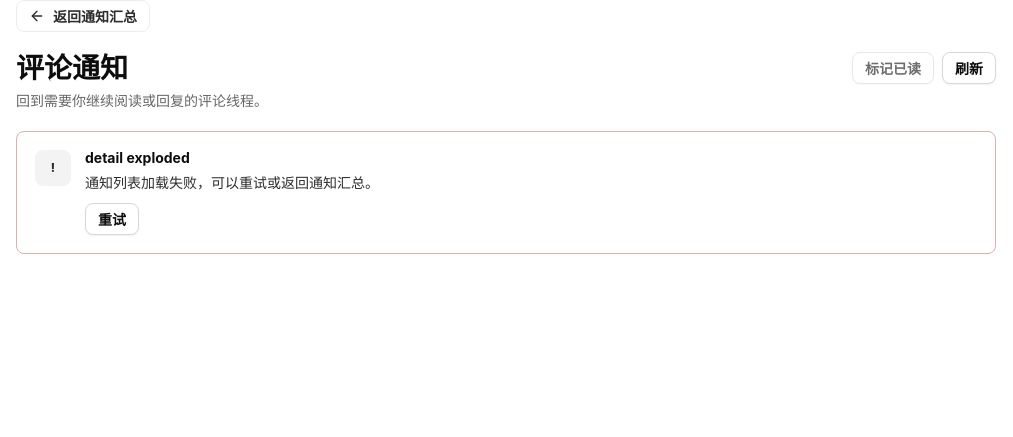
Test: NoticeDetailView › shows an error state with retry and recovers after the retry succeeds
Click the button "重试" at (112, 219), box x1=85 y1=203 x2=139 y2=235
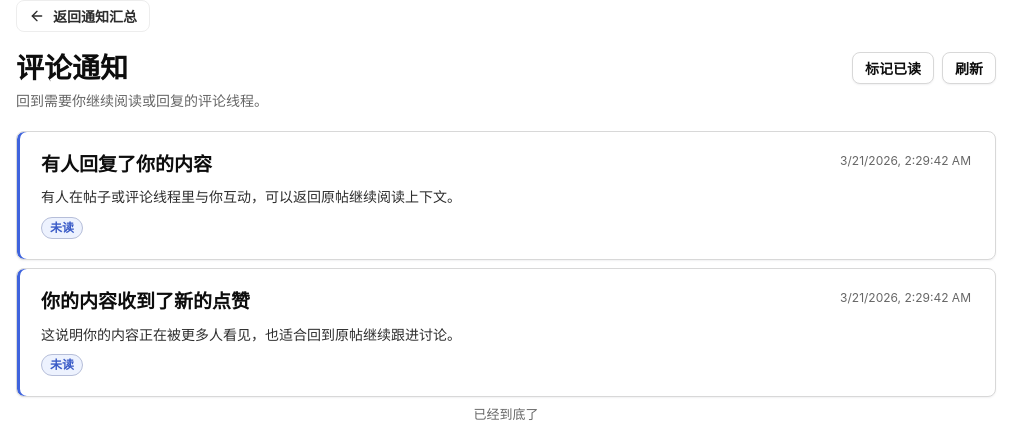
Now the text "有人回复了你的内容" is shown, box x1=41 y1=152 x2=212 y2=177
Now the text "detail exploded" is gone
